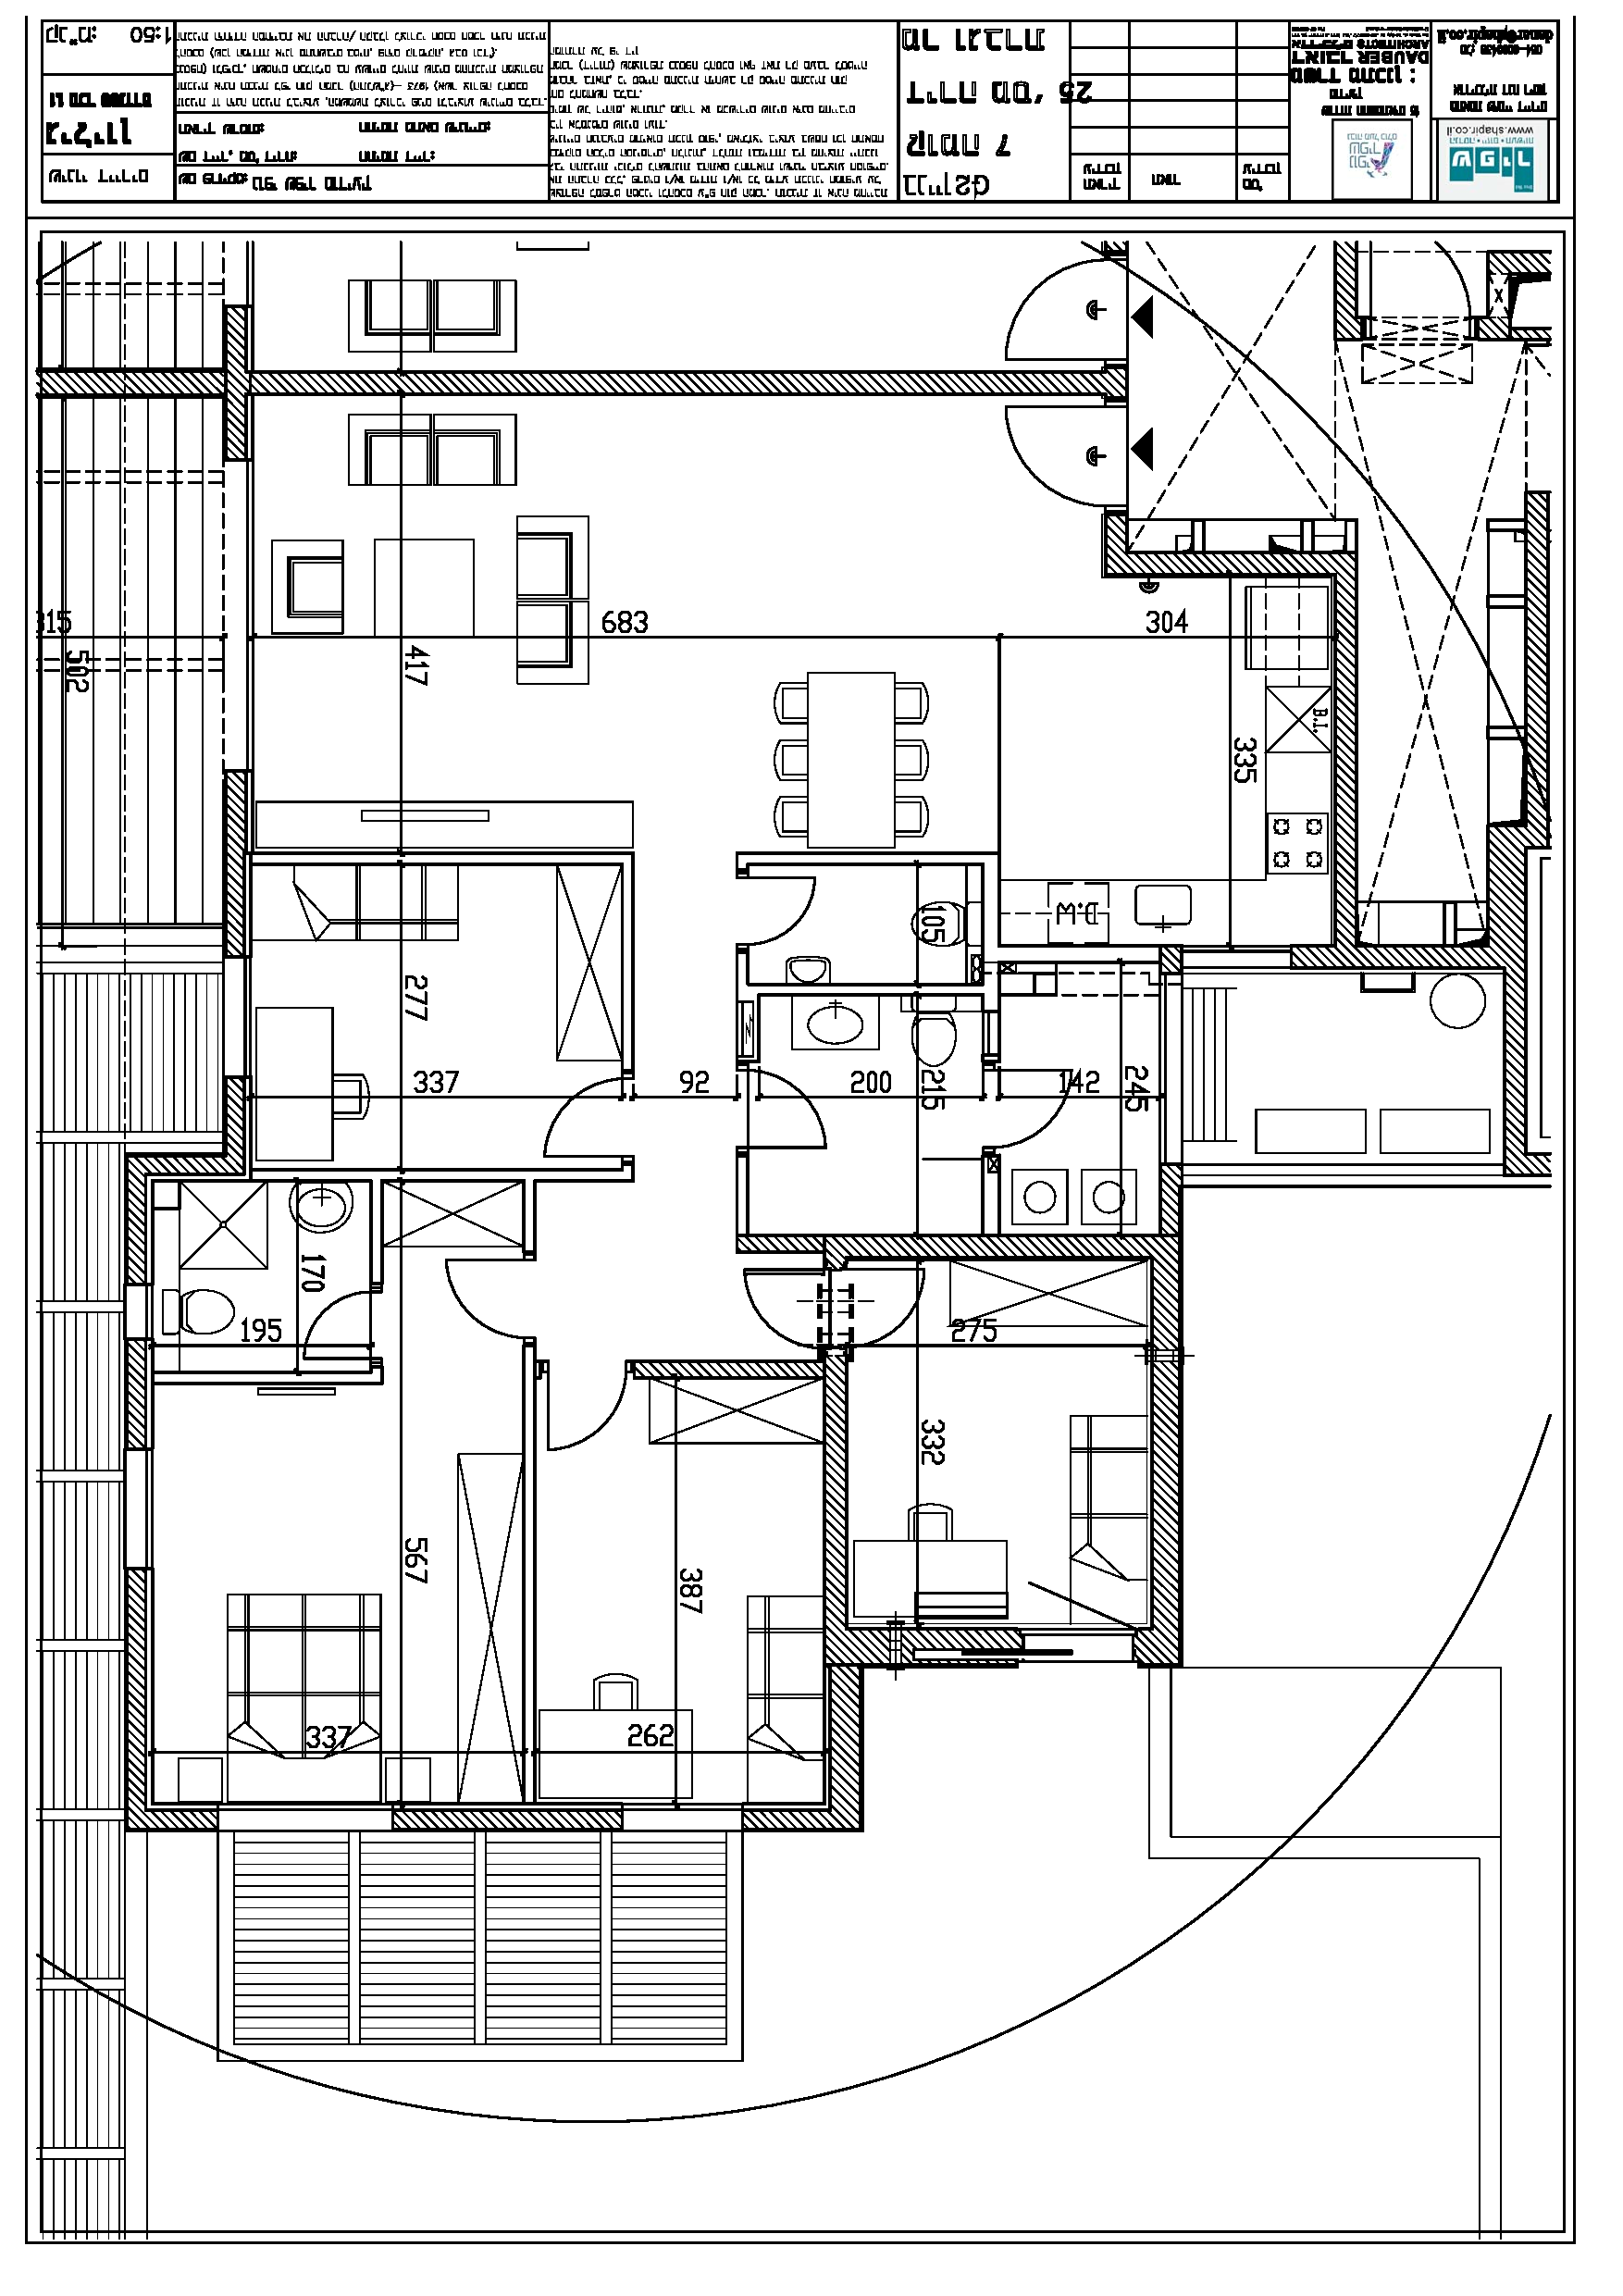door: (991, 399, 1128, 508), (996, 260, 1122, 360), (539, 1372, 638, 1460), (439, 1254, 527, 1340), (747, 873, 826, 950)
wall: (251, 369, 1121, 390), (824, 1356, 850, 1794), (1331, 553, 1354, 945), (739, 1237, 1177, 1253), (1526, 492, 1546, 838), (1159, 1267, 1175, 1665), (126, 1567, 148, 1823), (1103, 550, 1330, 571), (227, 771, 251, 956), (1504, 982, 1526, 1179), (40, 369, 220, 393), (397, 1808, 620, 1827), (223, 307, 248, 462), (1302, 949, 1532, 963), (1331, 244, 1360, 337), (130, 1165, 148, 1281), (125, 1340, 144, 1444), (750, 1813, 859, 1829), (227, 1080, 244, 1168), (1163, 1168, 1186, 1231), (153, 1815, 220, 1834), (158, 1158, 218, 1172)
